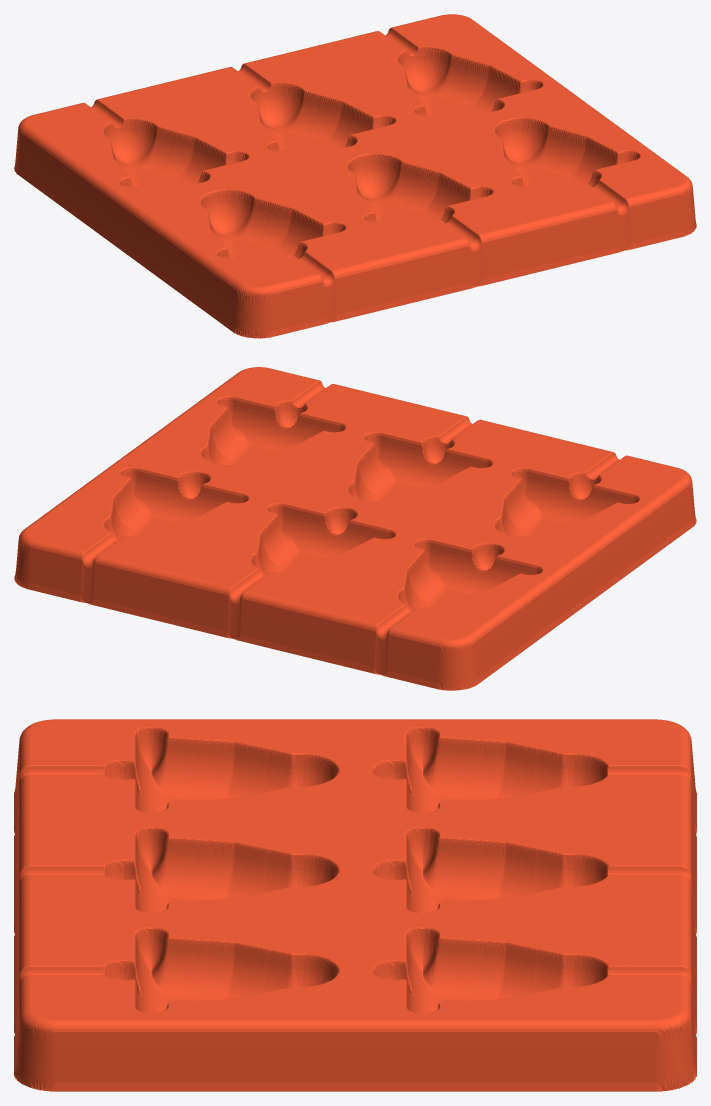
Rendered from mold.glb.
3 renders of one model, top to bottom at view 1: azimuth 30°, elevation 25°; view 2: azimuth 150°, elevation 25°; view 3: azimuth 270°, elevation 25°, orthographic. The views are drawn at different scales.
Visible parts, largest first — view 1: geometry_0; view 2: geometry_0; view 3: geometry_0.
Part boxes in pixels (left/top/right/bottom): geometry_0: left=14, top=14, right=696, bottom=338; geometry_0: left=14, top=367, right=696, bottom=690; geometry_0: left=14, top=719, right=696, bottom=1091.
Size of the model in its own units: 0.1603 by 0.0155 by 0.1477.
